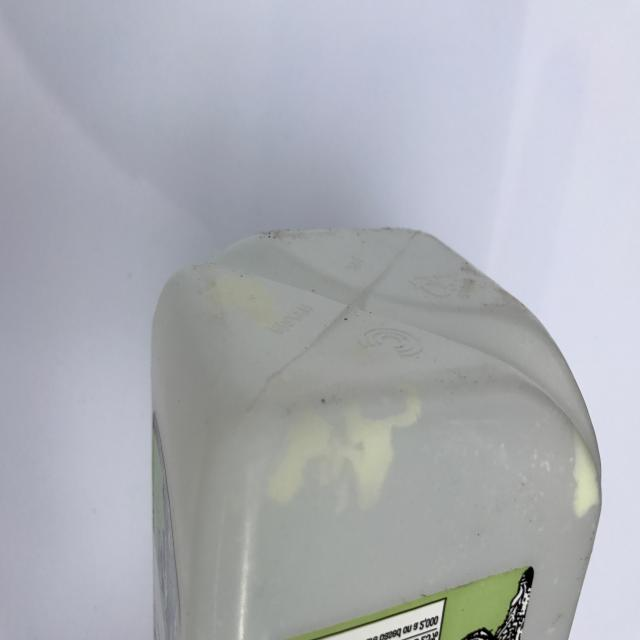plastic: (150, 225, 602, 640)
